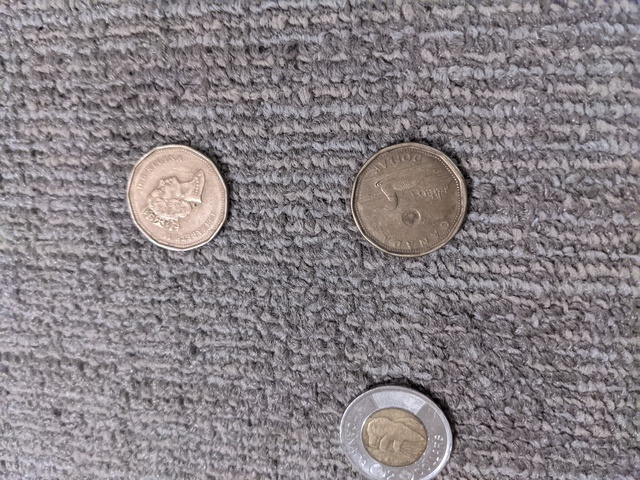loonie: (350, 132, 490, 260), (117, 118, 231, 256)
twonie: (327, 376, 468, 475)
